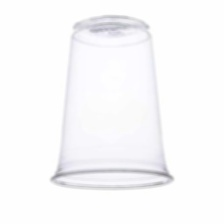glass: (45, 14, 176, 198)
